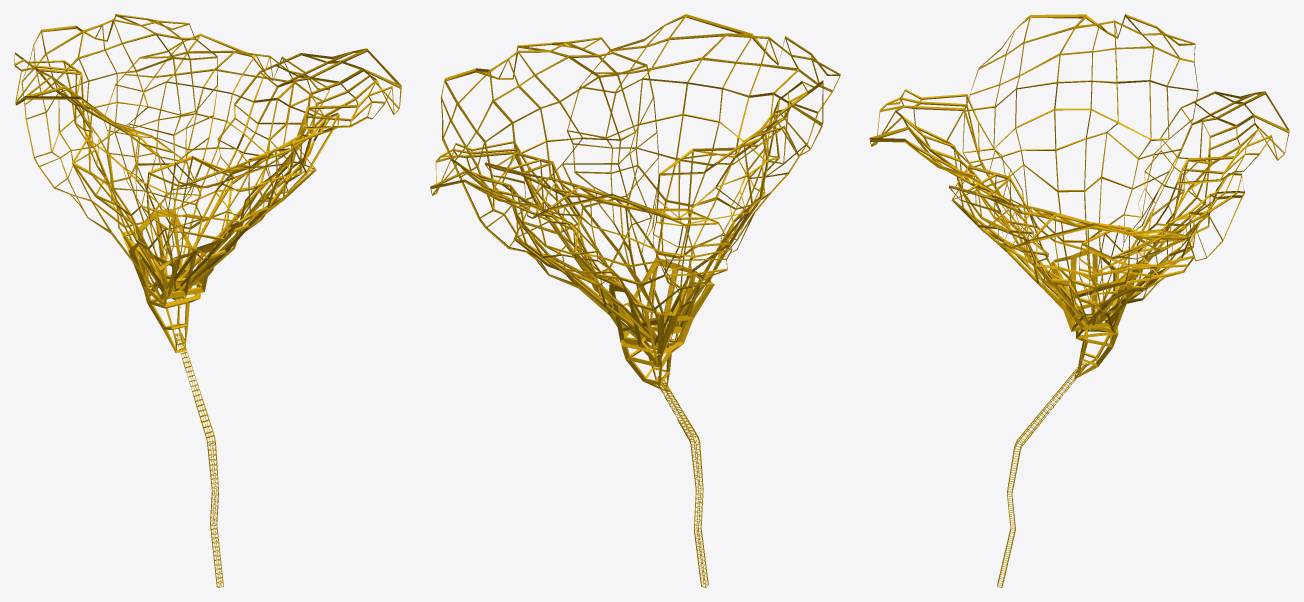
File: ipe.glb
The picture shows the model from 3 angles, left to right: view 1: azimuth 30°, elevation 25°; view 2: azimuth 150°, elevation 25°; view 3: azimuth 270°, elevation 25°; orthographic projection. The views are drawn at different scales.
Parts seen in each view (by area): view 1: IPE; view 2: IPE; view 3: IPE.
Boxes of the visible parts, <box> form: IPE: <box>14,14,401,587</box>; IPE: <box>430,14,840,587</box>; IPE: <box>869,14,1289,587</box>.
Bounding box in the file's own units: 1.75 × 2.45 × 1.83.
